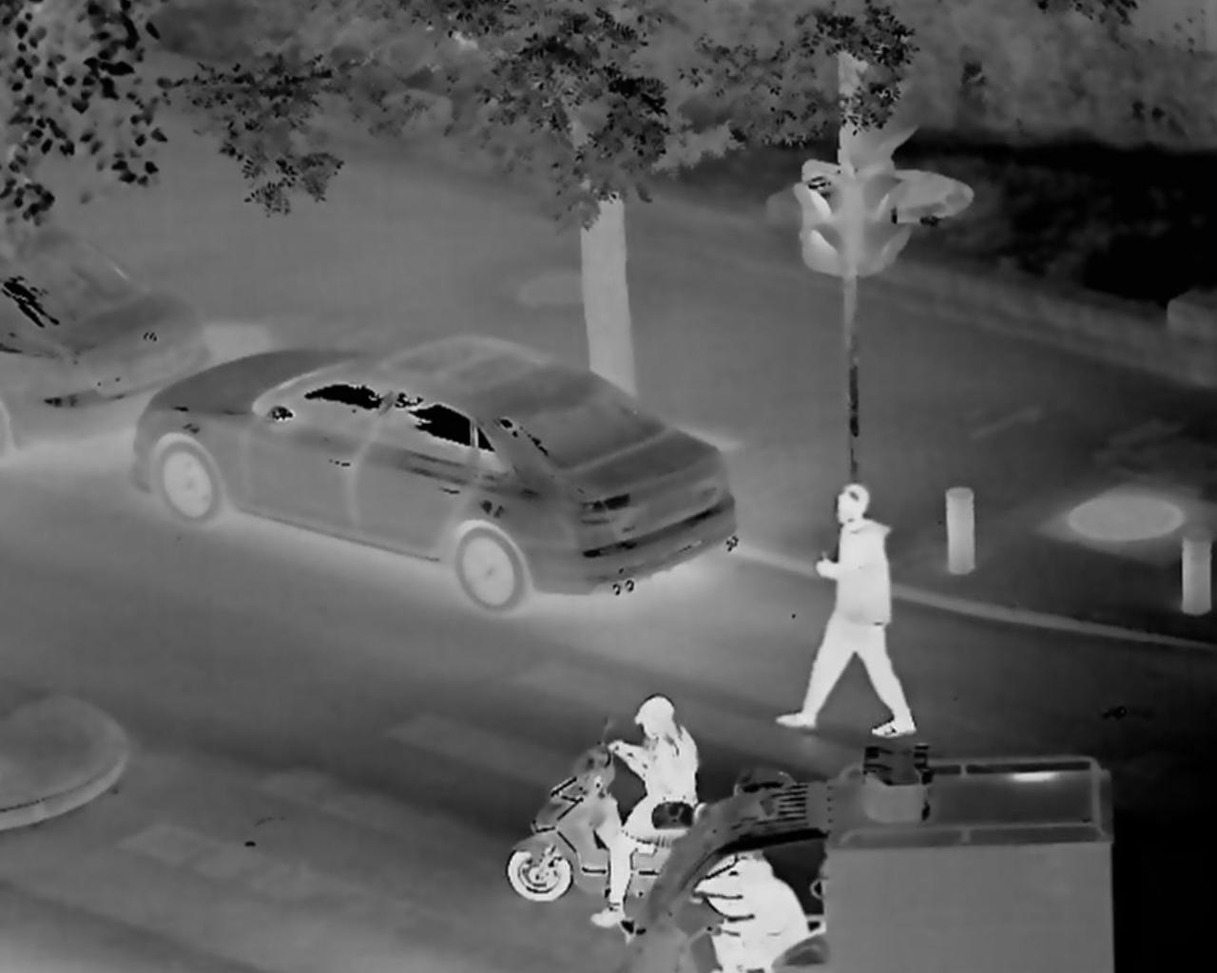person: (781, 481, 922, 737), (595, 696, 702, 940), (709, 858, 815, 973)
